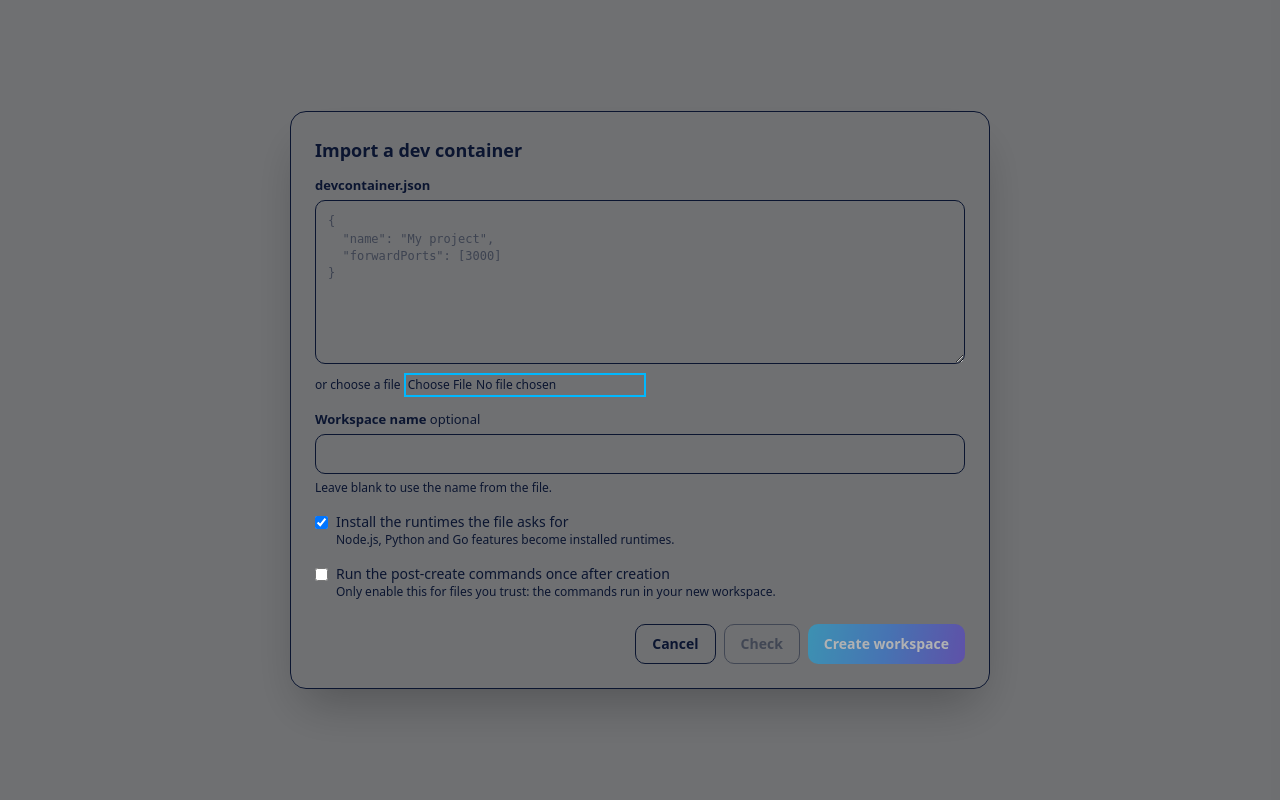
Scenario: ImportDevContainerDialog › keeps post-create commands off by default and shows unreadable files clearly
Expected: the checkbox labelled "Run the post-create commands" is not checked, [315, 568, 328, 581]
Type "nope" into the text box labelled "devcontainer.json" at (640,282), box [315, 200, 965, 364]
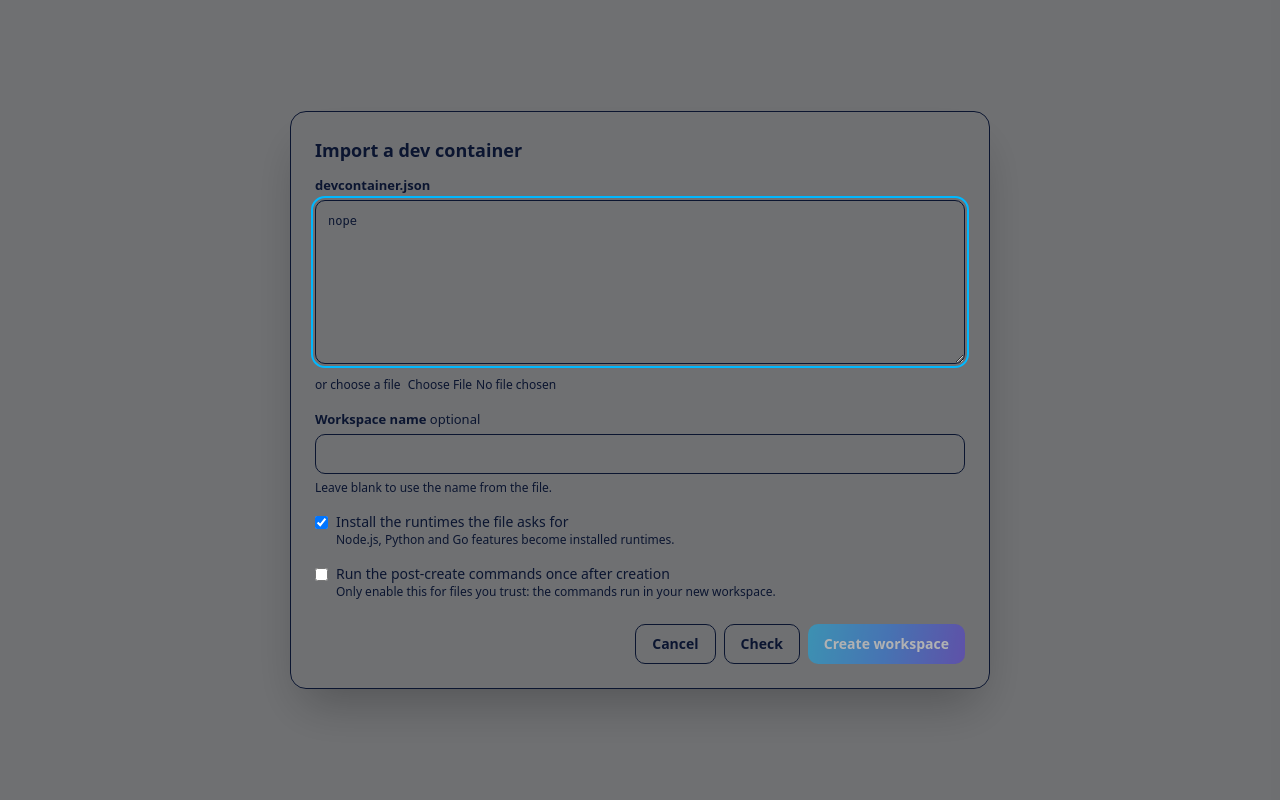
Click the button "Check" at (762,644), box [724, 624, 800, 664]
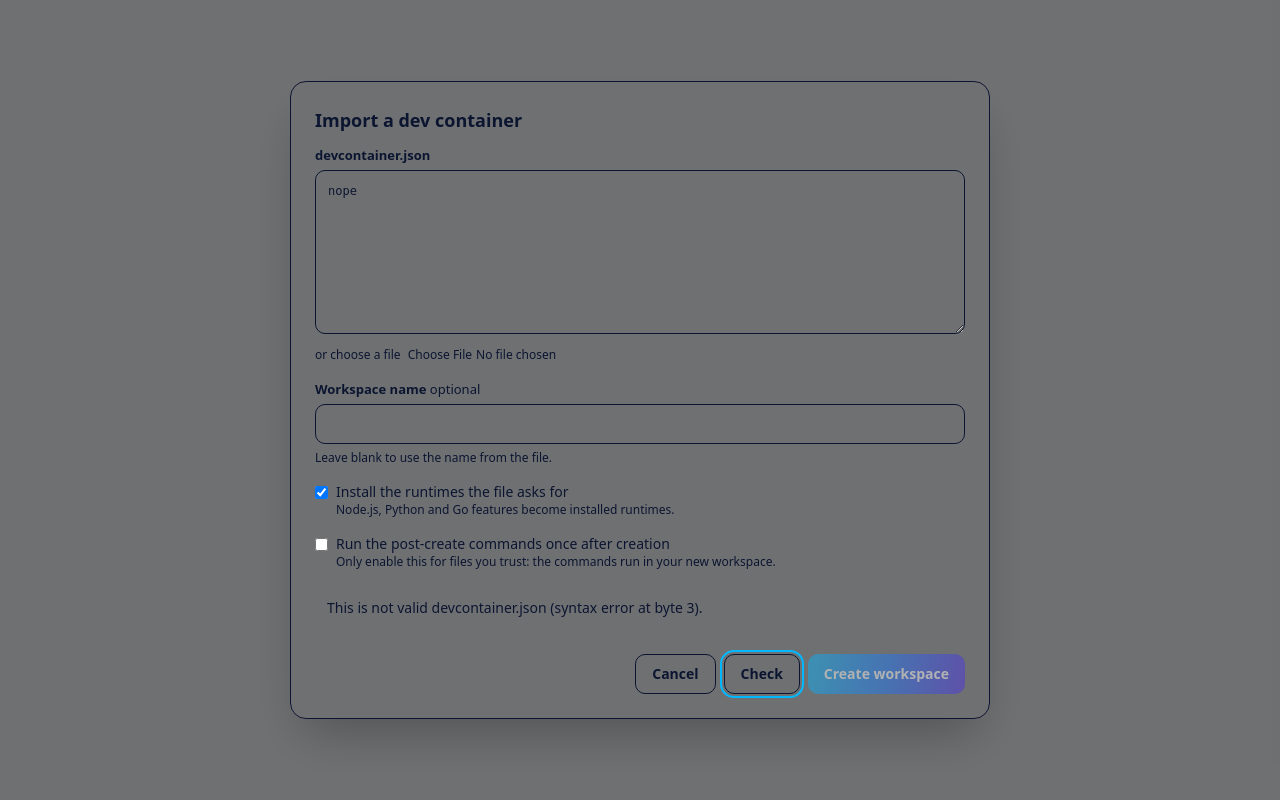
Expected: the message shows "not valid devcontainer.json", [327, 598, 702, 617]
